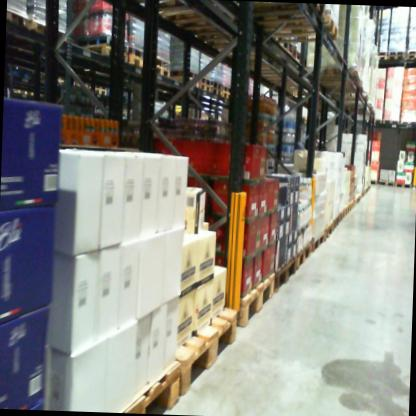pallet: (176, 302, 244, 414), (124, 354, 190, 415), (250, 8, 345, 50), (143, 0, 229, 33), (233, 270, 276, 336), (236, 4, 328, 24), (79, 40, 129, 68), (270, 247, 298, 289), (33, 17, 71, 47), (6, 61, 39, 82), (297, 235, 313, 275), (166, 73, 201, 91), (127, 48, 150, 75), (8, 10, 34, 31), (310, 228, 326, 257), (153, 63, 171, 80), (207, 80, 223, 98), (378, 174, 396, 190), (386, 52, 405, 65), (323, 221, 334, 243), (198, 80, 212, 95), (364, 117, 383, 128), (331, 212, 340, 234), (222, 89, 236, 103), (91, 84, 107, 96), (383, 118, 401, 128), (395, 181, 413, 190), (398, 119, 416, 127), (336, 208, 344, 223), (405, 50, 416, 60), (377, 53, 387, 63), (370, 177, 379, 188), (344, 203, 349, 217), (349, 201, 354, 213)
